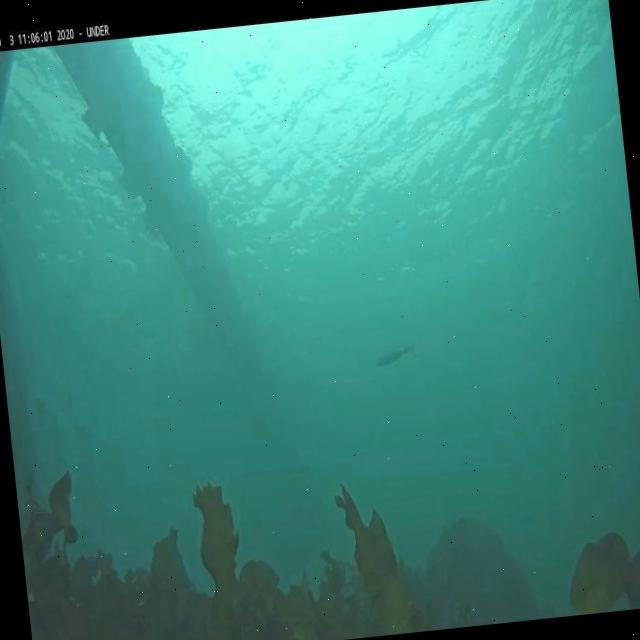fish: (372, 341, 422, 369)
